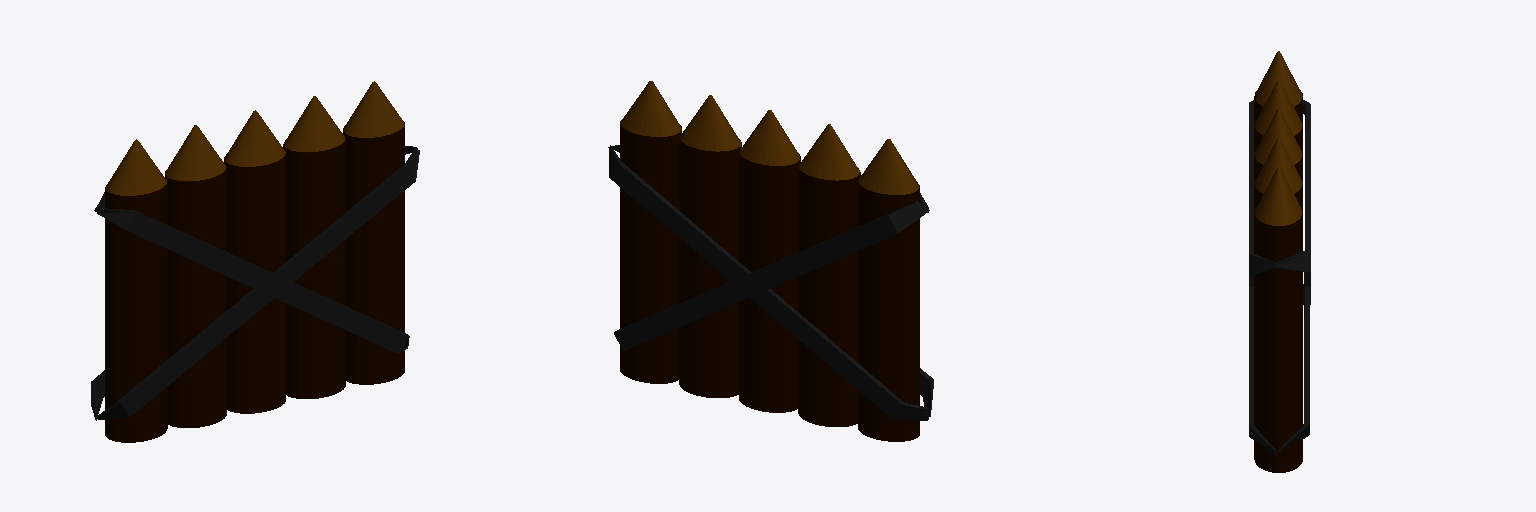
File: woodcitydoor.obj
3 views of the same model, side by side, from view 1: azimuth 30°, elevation 25°; view 2: azimuth 150°, elevation 25°; view 3: azimuth 270°, elevation 25° (orthographic).
Visible parts, largest first — view 1: Cylinder.001; view 2: Cylinder.001; view 3: Cylinder.001.
Boxes of the visible parts, x1,y1,x2,y2 form: Cylinder.001: [91, 81, 419, 442]; Cylinder.001: [608, 81, 933, 441]; Cylinder.001: [1249, 51, 1310, 472].
Size of the model in its own units: 3.23 by 2.78 by 0.5433.